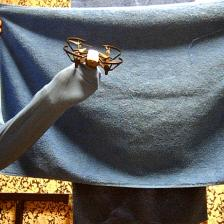drone: (63, 36, 124, 75)
